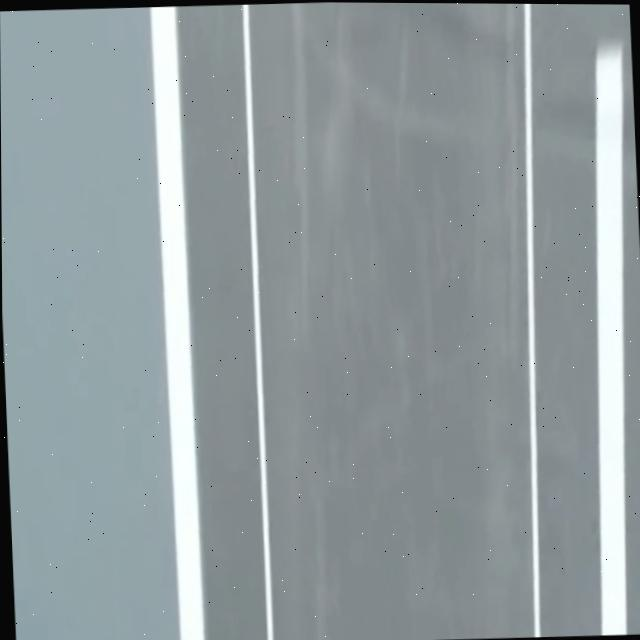center: (595, 41, 625, 635)
left: (150, 6, 204, 640)
